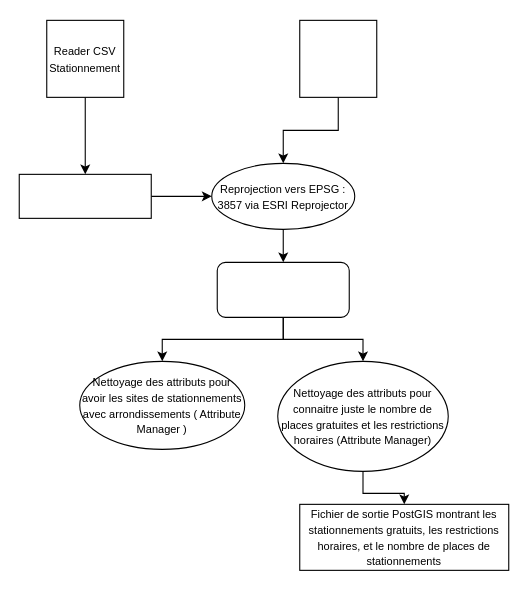
Image size: 528x590. Some labels were removed from this diagram. Each missing label, with the centre of its shape:
Jointure spatiale des stationnements et limites via PointOnAreaOverlay: [282,289]
Rader GeoJSON limites administratives Montréal: [338,58]
Transformation des coordonnées en point via VERTEXCREATOR: [84,195]
